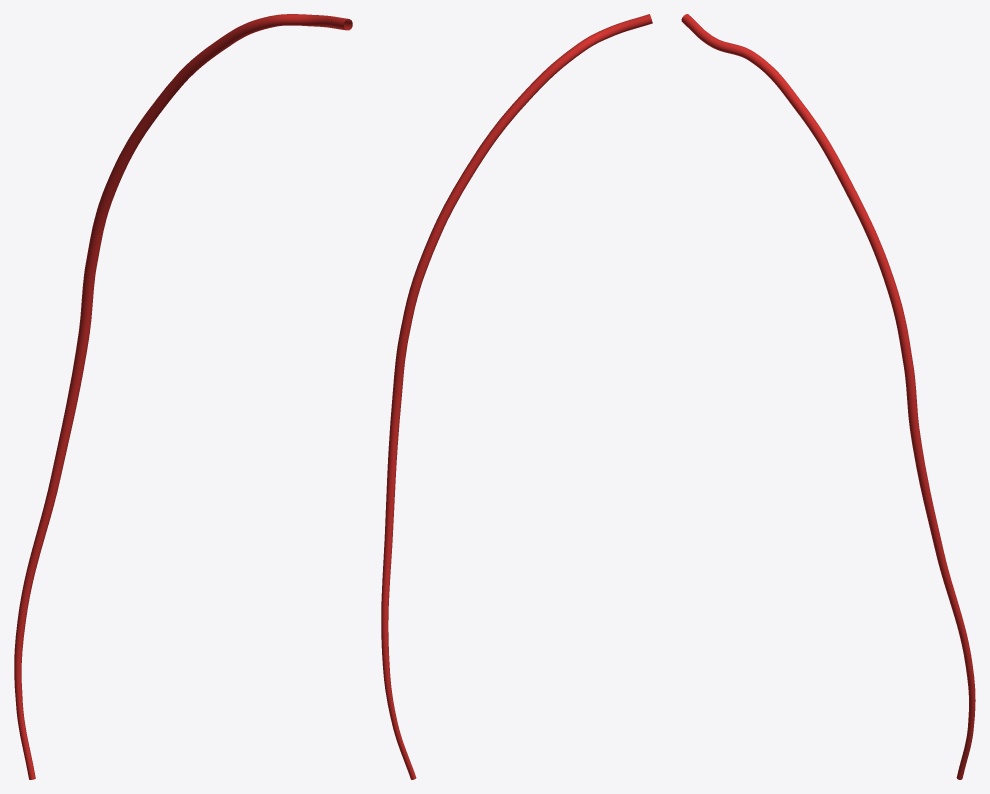
File: circulatorio-superficial-branch-of-transverse-cervical-artery-r.glb
3 views of the same model, side by side, from view 1: azimuth 90°, elevation 25°; view 2: azimuth 150°, elevation 25°; view 3: azimuth 270°, elevation 25° (orthographic). The views are drawn at different scales.
Visible parts, largest first — view 1: (Superficial branch of transverse cervical artery).r; view 2: (Superficial branch of transverse cervical artery).r; view 3: (Superficial branch of transverse cervical artery).r.
Part boxes in pixels (x1,y1,x2,y2): (Superficial branch of transverse cervical artery).r: [14, 14, 352, 779]; (Superficial branch of transverse cervical artery).r: [381, 14, 652, 779]; (Superficial branch of transverse cervical artery).r: [681, 14, 975, 779].
Bounding box in the file's own units: 0.0295 × 0.1305 × 0.0488.
